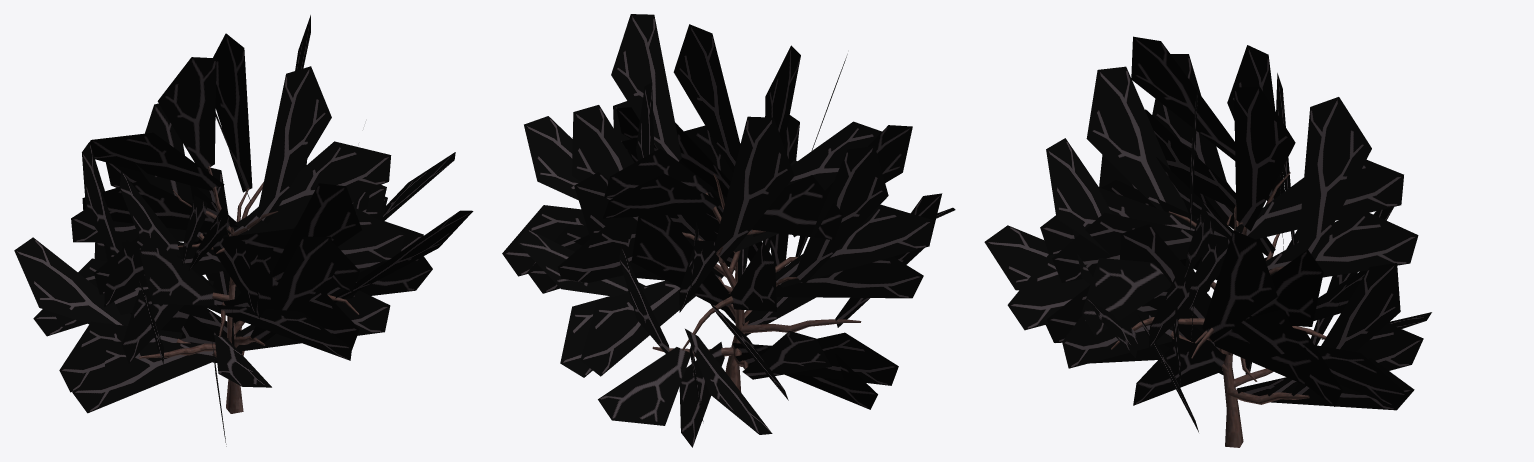
The model's file is BushTree_01.fbx.
3 renders of one model, left to right at view 1: azimuth 30°, elevation 25°; view 2: azimuth 150°, elevation 25°; view 3: azimuth 270°, elevation 25°, orthographic. The views are drawn at different scales.
Visible parts, largest first — view 1: LOD0; view 2: LOD0; view 3: LOD0.
Boxes of the visible parts, x1=… form: LOD0: x1=14, y1=15, x2=473, y2=446; LOD0: x1=502, y1=14, x2=955, y2=447; LOD0: x1=984, y1=36, x2=1431, y2=447.
Size of what is drawn, in the model's own units: 288 by 263 by 315.
